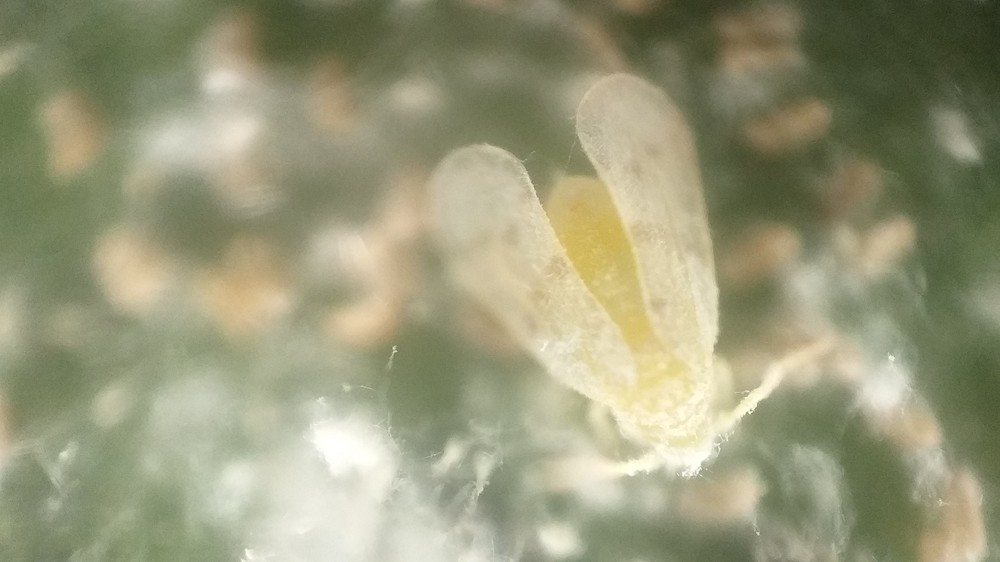Mosca Blanca: (389, 67, 865, 521)
